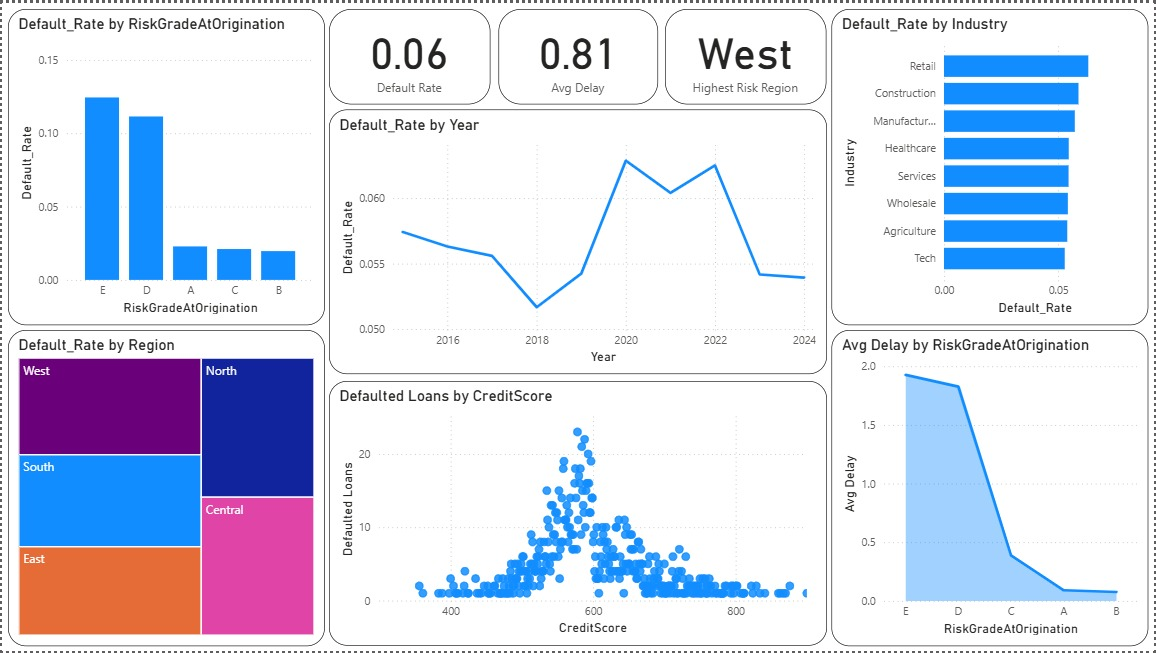

The page's visual inventory and layout, read from the dashboard file:
{"tool":"powerbi","page":{"name":"Risk & Performance Insights","canvas":[1280,720],"ordinal":1},"visuals":[{"type":"card","fields":{"Values":["Loans.Default Rate"]},"box":[364,6,179,106],"z":0},{"type":"card","fields":{"Values":["Repayments.Avg Delay"]},"box":[552,6,177,106],"z":1000},{"type":"card","fields":{"Values":["Customers.Highest Risk Region"]},"box":[736.7,6,179,106],"z":2000},{"type":"columnChart","fields":{"Y":["Loans.Default_Rate"],"Category":["Loans.RiskGradeAtOrigination"]},"box":[6,6,352,351],"z":3000},{"type":"barChart","fields":{"Y":["Loans.Default_Rate"],"Category":["Customers.Industry"]},"box":[922,6,352,351],"z":4000},{"type":"treemap","fields":{"Values":["Loans.Default_Rate"],"Group":["Customers.Region"]},"box":[6,363,352,351],"z":5000},{"type":"areaChart","fields":{"Category":["Loans.RiskGradeAtOrigination"],"Y":["Repayments.Avg Delay"]},"box":[922,363,352,351],"z":6000},{"type":"scatterChart","fields":{"X":["Customers.CreditScore"],"Y":["Loans.Defaulted Loans"]},"box":[363,420,553,294],"z":7000},{"type":"lineChart","fields":{"Y":["Loans.Default_Rate"],"Category":["Loans.OriginationDate.Variation.Date Hierarchy.Year"]},"box":[363,118,553,294],"z":8000}]}

Visuals, with their boxes in screenshot pixels (x1, y1, x2, y2), scaled from the page's 1280x720 canvas onto the 1156x653 screenshot:
card - Loans.Default Rate: (x1=329, y1=5, x2=490, y2=102)
card - Repayments.Avg Delay: (x1=499, y1=5, x2=658, y2=102)
card - Customers.Highest Risk Region: (x1=665, y1=5, x2=827, y2=102)
columnChart - Loans.Default_Rate x Loans.RiskGradeAtOrigination: (x1=5, y1=5, x2=323, y2=324)
barChart - Loans.Default_Rate x Customers.Industry: (x1=833, y1=5, x2=1151, y2=324)
treemap - Loans.Default_Rate x Customers.Region: (x1=5, y1=329, x2=323, y2=648)
areaChart - Loans.RiskGradeAtOrigination x Repayments.Avg Delay: (x1=833, y1=329, x2=1151, y2=648)
scatterChart - Customers.CreditScore x Loans.Defaulted Loans: (x1=328, y1=381, x2=827, y2=648)
lineChart - Loans.Default_Rate x Loans.OriginationDate.Variation.Date Hierarchy.Year: (x1=328, y1=107, x2=827, y2=374)
